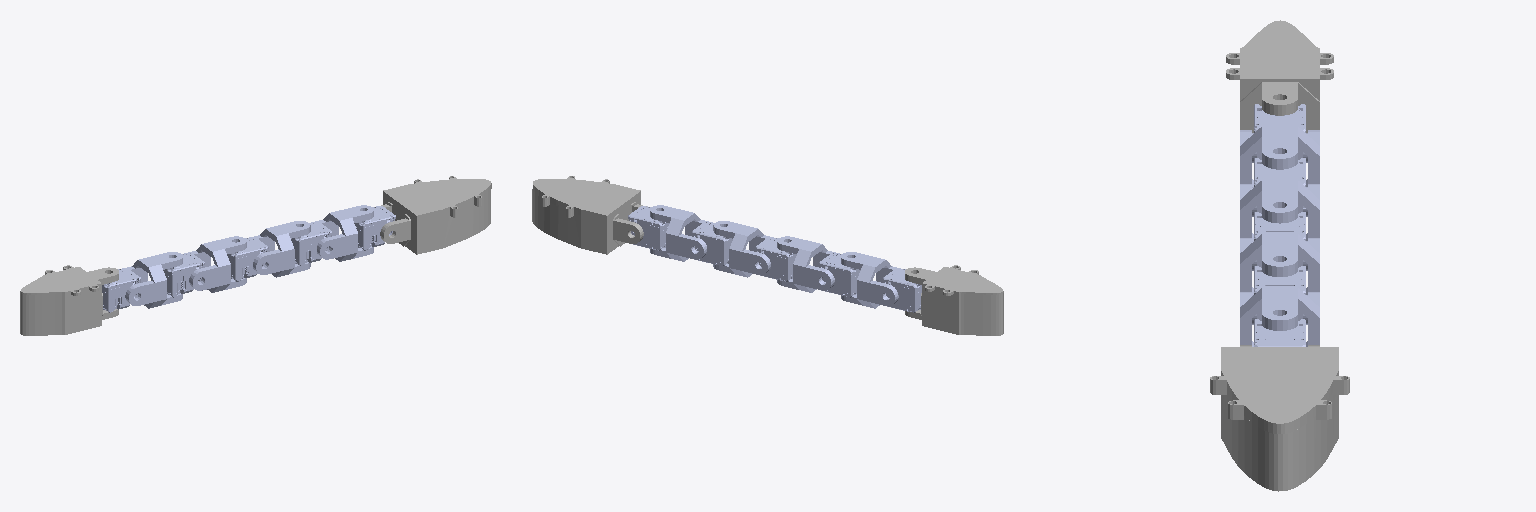
The robot description file, URDF, robot "Snake_Assembly":
<?xml version="1.0" encoding="utf-8"?>
<!-- This URDF was automatically created by SolidWorks to URDF Exporter! Originally created by [author] ([email redacted]) 
     Commit Version: 1.6.0-4-g7f85cfe  Build Version: 1.6.7995.38578
     For more information, please see http://wiki.ros.org/sw_urdf_exporter -->
<robot
  name="Snake_Assembly">
  <link
    name="Head">
    <inertial>
      <origin
        xyz="-0.0773298413692836 -0.000367823958700774 0.0256915918630202"
        rpy="0 0 0" />
      <mass
        value="0.126882468775081" />
      <inertia
        ixx="8.92133825913495E-05"
        ixy="8.70853305270439E-09"
        ixz="-1.65508843724945E-06"
        iyy="0.000160285197403636"
        iyz="5.11782398679065E-10"
        izz="0.000215528990386258" />
    </inertial>
    <visual>
      <origin
        xyz="0 0 0"
        rpy="0 0 0" />
      <geometry>
        <mesh
          filename="package://Snake_Assembly/meshes/Head.STL" />
      </geometry>
      <material
        name="">
        <color
          rgba="0.752941176470588 0.752941176470588 0.752941176470588 1" />
      </material>
    </visual>
    <collision>
      <origin
        xyz="0 0 0"
        rpy="0 0 0" />
      <geometry>
        <mesh
          filename="package://Snake_Assembly/meshes/Head.STL" />
      </geometry>
    </collision>
  </link>
  <link
    name="Motor 1">
    <inertial>
      <origin
        xyz="-0.0120001503975481 0.000121970944779873 0.000495878530213562"
        rpy="0 0 0" />
      <mass
        value="0.0569176277607128" />
      <inertia
        ixx="1.02302735970703E-05"
        ixy="-5.82120294433897E-10"
        ixz="7.69441167803847E-10"
        iyy="1.43924882902026E-05"
        iyz="3.44003507752819E-07"
        izz="1.43925048825667E-05" />
    </inertial>
    <visual>
      <origin
        xyz="0 0 0"
        rpy="0 0 0" />
      <geometry>
        <mesh
          filename="package://Snake_Assembly/meshes/Motor 1.STL" />
      </geometry>
      <material
        name="">
        <color
          rgba="0.792156862745098 0.819607843137255 0.933333333333333 1" />
      </material>
    </visual>
    <collision>
      <origin
        xyz="0 0 0"
        rpy="0 0 0" />
      <geometry>
        <mesh
          filename="package://Snake_Assembly/meshes/Motor 1.STL" />
      </geometry>
    </collision>
  </link>
  <joint
    name="Motor 1 Pitch"
    type="revolute">
    <origin
      xyz="-0.14899 0 0.027"
      rpy="0 0 0" />
    <parent
      link="Head" />
    <child
      link="Motor 1" />
    <axis
      xyz="0 0 1" />
    <limit
      lower="-0.6"
      upper="0.6"
      effort="0.8"
      velocity="1.2" />
  </joint>
  <link
    name="Connector 1">
    <inertial>
      <origin
        xyz="-0.0315 1.12648605721244E-16 1.52448022955332E-10"
        rpy="0 0 0" />
      <mass
        value="0.0430527075111026" />
      <inertia
        ixx="2.57478329077417E-05"
        ixy="2.19719850209398E-20"
        ixz="-3.72371181524516E-21"
        iyy="2.97255523427383E-05"
        iyz="1.76027720796545E-20"
        izz="2.97255523427383E-05" />
    </inertial>
    <visual>
      <origin
        xyz="0 0 0"
        rpy="0 0 0" />
      <geometry>
        <mesh
          filename="package://Snake_Assembly/meshes/Connector 1.STL" />
      </geometry>
      <material
        name="">
        <color
          rgba="0.792156862745098 0.819607843137255 0.933333333333333 1" />
      </material>
    </visual>
    <collision>
      <origin
        xyz="0 0 0"
        rpy="0 0 0" />
      <geometry>
        <mesh
          filename="package://Snake_Assembly/meshes/Connector 1.STL" />
      </geometry>
    </collision>
  </link>
  <joint
    name="Motor 1 Yaw"
    type="revolute">
    <origin
      xyz="-0.024 -0.000374 0"
      rpy="0 0 0" />
    <parent
      link="Motor 1" />
    <child
      link="Connector 1" />
    <axis
      xyz="0 1 0" />
    <limit
      lower="-0.6"
      upper="0.6"
      effort="0.8"
      velocity="1.2" />
  </joint>
  <link
    name="Motor 2">
    <inertial>
      <origin
        xyz="-0.0119998503185918 0.000495878377765638 0.000495971402698948"
        rpy="0 0 0" />
      <mass
        value="0.0569176277607127" />
      <inertia
        ixx="1.02302735970702E-05"
        ixy="-7.69441167800332E-10"
        ixz="5.8212029442761E-10"
        iyy="1.43925048825667E-05"
        iyz="3.44003507752817E-07"
        izz="1.43924882902026E-05" />
    </inertial>
    <visual>
      <origin
        xyz="0 0 0"
        rpy="0 0 0" />
      <geometry>
        <mesh
          filename="package://Snake_Assembly/meshes/Motor 2.STL" />
      </geometry>
      <material
        name="">
        <color
          rgba="0.792156862745098 0.819607843137255 0.933333333333333 1" />
      </material>
    </visual>
    <collision>
      <origin
        xyz="0 0 0"
        rpy="0 0 0" />
      <geometry>
        <mesh
          filename="package://Snake_Assembly/meshes/Motor 2.STL" />
      </geometry>
    </collision>
  </link>
  <joint
    name="Motor 2 Pitch"
    type="revolute">
    <origin
      xyz="-0.063 0 0"
      rpy="0 0 0" />
    <parent
      link="Connector 1" />
    <child
      link="Motor 2" />
    <axis
      xyz="0 0 1" />
    <limit
      lower="-0.6"
      upper="0.6"
      effort="0.8"
      velocity="1.2" />
  </joint>
  <link
    name="Connector 2">
    <inertial>
      <origin
        xyz="-0.0314999999999999 -2.8122035949929E-15 1.52448425411178E-10"
        rpy="0 0 0" />
      <mass
        value="0.0430527075111026" />
      <inertia
        ixx="2.57478329077417E-05"
        ixy="2.68833699079734E-20"
        ixz="4.88219950864592E-21"
        iyy="2.97255523427383E-05"
        iyz="1.51480398199948E-20"
        izz="2.97255523427383E-05" />
    </inertial>
    <visual>
      <origin
        xyz="0 0 0"
        rpy="0 0 0" />
      <geometry>
        <mesh
          filename="package://Snake_Assembly/meshes/Connector 2.STL" />
      </geometry>
      <material
        name="">
        <color
          rgba="0.792156862745098 0.819607843137255 0.933333333333333 1" />
      </material>
    </visual>
    <collision>
      <origin
        xyz="0 0 0"
        rpy="0 0 0" />
      <geometry>
        <mesh
          filename="package://Snake_Assembly/meshes/Connector 2.STL" />
      </geometry>
    </collision>
  </link>
  <joint
    name="Motor 2 Yaw"
    type="revolute">
    <origin
      xyz="-0.024 0 0"
      rpy="0 0 0" />
    <parent
      link="Motor 2" />
    <child
      link="Connector 2" />
    <axis
      xyz="0 1 0" />
    <limit
      lower="-0.6"
      upper="0.6"
      effort="0.8"
      velocity="1.2" />
  </joint>
  <link
    name="Motor 3">
    <inertial>
      <origin
        xyz="-0.0119998503185919 0.000495878377762661 0.000495971402698948"
        rpy="0 0 0" />
      <mass
        value="0.0569176277607127" />
      <inertia
        ixx="1.02302735970703E-05"
        ixy="-7.69441167797286E-10"
        ixz="5.82120294423903E-10"
        iyy="1.43925048825667E-05"
        iyz="3.44003507752819E-07"
        izz="1.43924882902026E-05" />
    </inertial>
    <visual>
      <origin
        xyz="0 0 0"
        rpy="0 0 0" />
      <geometry>
        <mesh
          filename="package://Snake_Assembly/meshes/Motor 3.STL" />
      </geometry>
      <material
        name="">
        <color
          rgba="0.792156862745098 0.819607843137255 0.933333333333333 1" />
      </material>
    </visual>
    <collision>
      <origin
        xyz="0 0 0"
        rpy="0 0 0" />
      <geometry>
        <mesh
          filename="package://Snake_Assembly/meshes/Motor 3.STL" />
      </geometry>
    </collision>
  </link>
  <joint
    name="Motor 3 Pitch"
    type="revolute">
    <origin
      xyz="-0.063 0 0"
      rpy="0 0 0" />
    <parent
      link="Connector 2" />
    <child
      link="Motor 3" />
    <axis
      xyz="0 0 1" />
    <limit
      lower="-0.6"
      upper="0.6"
      effort="0.8"
      velocity="1.2" />
  </joint>
  <link
    name="Connector 3">
    <inertial>
      <origin
        xyz="-0.0314999999999999 -1.8436857943116E-15 1.5244901521716E-10"
        rpy="0 0 0" />
      <mass
        value="0.0430527075111026" />
      <inertia
        ixx="2.57478329077417E-05"
        ixy="2.51385358033693E-20"
        ixz="-2.48154183765911E-21"
        iyy="2.97255523427383E-05"
        iyz="1.66987086159143E-20"
        izz="2.97255523427383E-05" />
    </inertial>
    <visual>
      <origin
        xyz="0 0 0"
        rpy="0 0 0" />
      <geometry>
        <mesh
          filename="package://Snake_Assembly/meshes/Connector 3.STL" />
      </geometry>
      <material
        name="">
        <color
          rgba="0.792156862745098 0.819607843137255 0.933333333333333 1" />
      </material>
    </visual>
    <collision>
      <origin
        xyz="0 0 0"
        rpy="0 0 0" />
      <geometry>
        <mesh
          filename="package://Snake_Assembly/meshes/Connector 3.STL" />
      </geometry>
    </collision>
  </link>
  <joint
    name="Motor 3 Yaw"
    type="revolute">
    <origin
      xyz="-0.024 0 0"
      rpy="0 0 0" />
    <parent
      link="Motor 3" />
    <child
      link="Connector 3" />
    <axis
      xyz="0 1 0" />
    <limit
      lower="-0.6"
      upper="0.6"
      effort="0.8"
      velocity="1.2" />
  </joint>
  <link
    name="Motor 4">
    <inertial>
      <origin
        xyz="-0.0120001503975481 0.000495971250249118 0.000495878530213534"
        rpy="0 0 0" />
      <mass
        value="0.0569176277607128" />
      <inertia
        ixx="1.02302735970703E-05"
        ixy="-5.82120294431644E-10"
        ixz="7.69441167798525E-10"
        iyy="1.43924882902027E-05"
        iyz="3.4400350775282E-07"
        izz="1.43925048825667E-05" />
    </inertial>
    <visual>
      <origin
        xyz="0 0 0"
        rpy="0 0 0" />
      <geometry>
        <mesh
          filename="package://Snake_Assembly/meshes/Motor 4.STL" />
      </geometry>
      <material
        name="">
        <color
          rgba="0.792156862745098 0.819607843137255 0.933333333333333 1" />
      </material>
    </visual>
    <collision>
      <origin
        xyz="0 0 0"
        rpy="0 0 0" />
      <geometry>
        <mesh
          filename="package://Snake_Assembly/meshes/Motor 4.STL" />
      </geometry>
    </collision>
  </link>
  <joint
    name="Motor 4 Pitch"
    type="revolute">
    <origin
      xyz="-0.063 0 0"
      rpy="0 0 0" />
    <parent
      link="Connector 3" />
    <child
      link="Motor 4" />
    <axis
      xyz="0 0 1" />
    <limit
      lower="-0.6"
      upper="0.6"
      effort="0.8"
      velocity="1.2" />
  </joint>
  <link
    name="Connector 4">
    <inertial>
      <origin
        xyz="-0.0315 -1.86406879515433E-15 1.52447873769113E-10"
        rpy="0 0 0" />
      <mass
        value="0.0430527075111026" />
      <inertia
        ixx="2.57478329077417E-05"
        ixy="2.05502683431143E-20"
        ixz="-1.74483410460399E-21"
        iyy="2.97255523427383E-05"
        iyz="1.82238228703089E-20"
        izz="2.97255523427383E-05" />
    </inertial>
    <visual>
      <origin
        xyz="0 0 0"
        rpy="0 0 0" />
      <geometry>
        <mesh
          filename="package://Snake_Assembly/meshes/Connector 4.STL" />
      </geometry>
      <material
        name="">
        <color
          rgba="0.792156862745098 0.819607843137255 0.933333333333333 1" />
      </material>
    </visual>
    <collision>
      <origin
        xyz="0 0 0"
        rpy="0 0 0" />
      <geometry>
        <mesh
          filename="package://Snake_Assembly/meshes/Connector 4.STL" />
      </geometry>
    </collision>
  </link>
  <joint
    name="Motor 4 Yaw"
    type="revolute">
    <origin
      xyz="-0.02400000071614 0 0"
      rpy="0 0 0" />
    <parent
      link="Motor 4" />
    <child
      link="Connector 4" />
    <axis
      xyz="0 1 0" />
    <limit
      lower="-0.6"
      upper="0.6"
      effort="0.8"
      velocity="1.2" />
  </joint>
  <link
    name="Motor 5">
    <inertial>
      <origin
        xyz="-0.0119998503185921 0.000495878377763779 0.000495971402698976"
        rpy="0 0 0" />
      <mass
        value="0.0569176277607127" />
      <inertia
        ixx="1.02302735970702E-05"
        ixy="-7.69441167797774E-10"
        ixz="5.82120294428564E-10"
        iyy="1.43925048825667E-05"
        iyz="3.44003507752819E-07"
        izz="1.43924882902026E-05" />
    </inertial>
    <visual>
      <origin
        xyz="0 0 0"
        rpy="0 0 0" />
      <geometry>
        <mesh
          filename="package://Snake_Assembly/meshes/Motor 5.STL" />
      </geometry>
      <material
        name="">
        <color
          rgba="0.792156862745098 0.819607843137255 0.933333333333333 1" />
      </material>
    </visual>
    <collision>
      <origin
        xyz="0 0 0"
        rpy="0 0 0" />
      <geometry>
        <mesh
          filename="package://Snake_Assembly/meshes/Motor 5.STL" />
      </geometry>
    </collision>
  </link>
  <joint
    name="Motor 5 Pitch"
    type="revolute">
    <origin
      xyz="-0.063 0 0"
      rpy="0 0 0" />
    <parent
      link="Connector 4" />
    <child
      link="Motor 5" />
    <axis
      xyz="0 0 1" />
    <limit
      lower="-0.6"
      upper="0.6"
      effort="0.8"
      velocity="1.2" />
  </joint>
  <link
    name="Tail">
    <inertial>
      <origin
        xyz="-0.0513936639534015 1.12044782427198E-07 0.001179015401235"
        rpy="0 0 0" />
      <mass
        value="0.0573755283614792" />
      <inertia
        ixx="3.42744348747828E-05"
        ixy="1.26390885653235E-09"
        ixz="1.07017727829772E-08"
        iyy="5.50507811947081E-05"
        iyz="4.76711059275756E-09"
        izz="5.33986092158264E-05" />
    </inertial>
    <visual>
      <origin
        xyz="0 0 0"
        rpy="0 0 0" />
      <geometry>
        <mesh
          filename="package://Snake_Assembly/meshes/Tail.STL" />
      </geometry>
      <material
        name="">
        <color
          rgba="0.752941176470588 0.752941176470588 0.752941176470588 1" />
      </material>
    </visual>
    <collision>
      <origin
        xyz="0 0 0"
        rpy="0 0 0" />
      <geometry>
        <mesh
          filename="package://Snake_Assembly/meshes/Tail.STL" />
      </geometry>
    </collision>
  </link>
  <joint
    name="Motor 5 Yaw"
    type="revolute">
    <origin
      xyz="-0.024 0 0"
      rpy="0 0 0" />
    <parent
      link="Motor 5" />
    <child
      link="Tail" />
    <axis
      xyz="0 1 0" />
    <limit
      lower="-0.6"
      upper="0.6"
      effort="0.8"
      velocity="1.2" />
  </joint>
</robot>

--- Facts derived from the render (not from the file) ---
Views: 3 orthographic renders of the robot side by side, from view 1: azimuth 30°, elevation 25°; view 2: azimuth 150°, elevation 25°; view 3: azimuth 270°, elevation 25°.
Robot: Snake_Assembly — 11 links, 10 joints (10 revolute); root link Head; default pose: every joint at zero.
Links seen in each view (by area): view 1: Head, Tail, Connector 2, Connector 3, Connector 1, Connector 4, Motor 4, Motor 1, Motor 5, Motor 3, Motor 2; view 2: Head, Tail, Connector 2, Connector 4, Connector 3, Connector 1, Motor 1, Motor 4, Motor 5, Motor 2, Motor 3; view 3: Head, Tail, Connector 4, Connector 3, Connector 2, Connector 1, Motor 1, Motor 3, Motor 4, Motor 2, Motor 5.
Link boxes in pixels (<box>): Head: <box>380,176,491,254</box>; Tail: <box>20,265,118,335</box>; Connector 2: <box>253,221,310,277</box>; Connector 3: <box>189,236,246,292</box>; Connector 1: <box>317,205,373,261</box>; Connector 4: <box>125,252,182,308</box>; Motor 4: <box>163,252,204,297</box>; Motor 1: <box>354,206,395,250</box>; Motor 5: <box>102,268,140,312</box>; Motor 3: <box>227,237,268,281</box>; Motor 2: <box>291,221,331,265</box>; Head: <box>532,176,646,254</box>; Tail: <box>905,265,1003,335</box>; Connector 2: <box>713,221,773,277</box>; Connector 4: <box>841,252,900,308</box>; Connector 3: <box>777,236,834,292</box>; Connector 1: <box>650,205,706,261</box>; Motor 1: <box>628,206,669,250</box>; Motor 4: <box>819,252,860,297</box>; Motor 5: <box>883,268,921,312</box>; Motor 2: <box>692,221,732,265</box>; Motor 3: <box>755,237,796,281</box>; Head: <box>1210,345,1349,491</box>; Tail: <box>1226,20,1333,132</box>; Connector 4: <box>1240,126,1319,186</box>; Connector 3: <box>1240,180,1319,240</box>; Connector 2: <box>1240,234,1319,294</box>; Connector 1: <box>1240,288,1319,346</box>; Motor 1: <box>1254,319,1305,346</box>; Motor 3: <box>1252,212,1307,270</box>; Motor 4: <box>1252,158,1307,216</box>; Motor 2: <box>1252,266,1307,324</box>; Motor 5: <box>1252,104,1307,162</box>.
Size in the robot's own frame: 0.641 by 0.0955 by 0.056 metres.
11 mesh visuals loaded from 11 distinct referenced files (11 binary STL).
